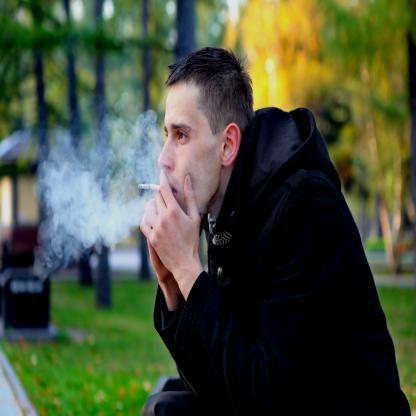cigarette: (137, 181, 161, 193)
person: (133, 46, 368, 416)
smoke: (37, 146, 147, 252)
